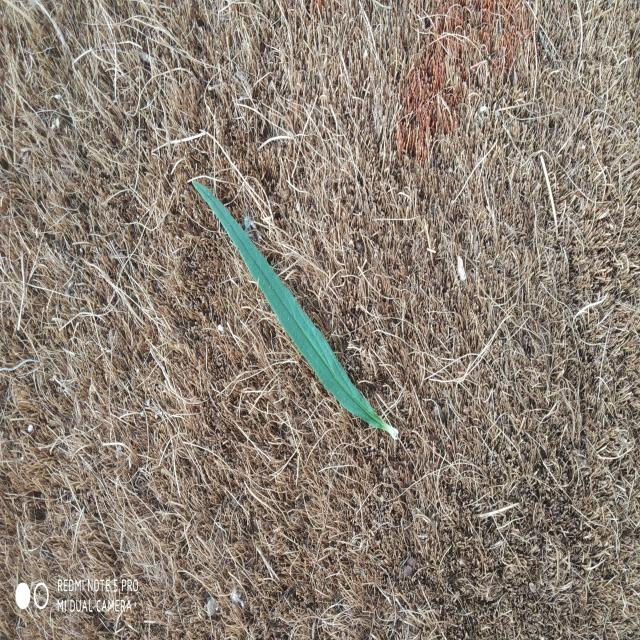thambe: (192, 180, 399, 440)
